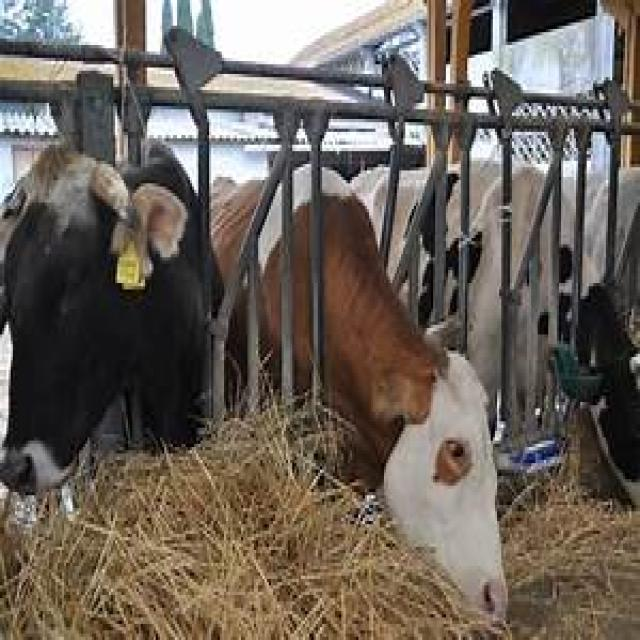cow: (318, 170, 510, 630), (0, 148, 213, 498), (256, 183, 290, 373)
